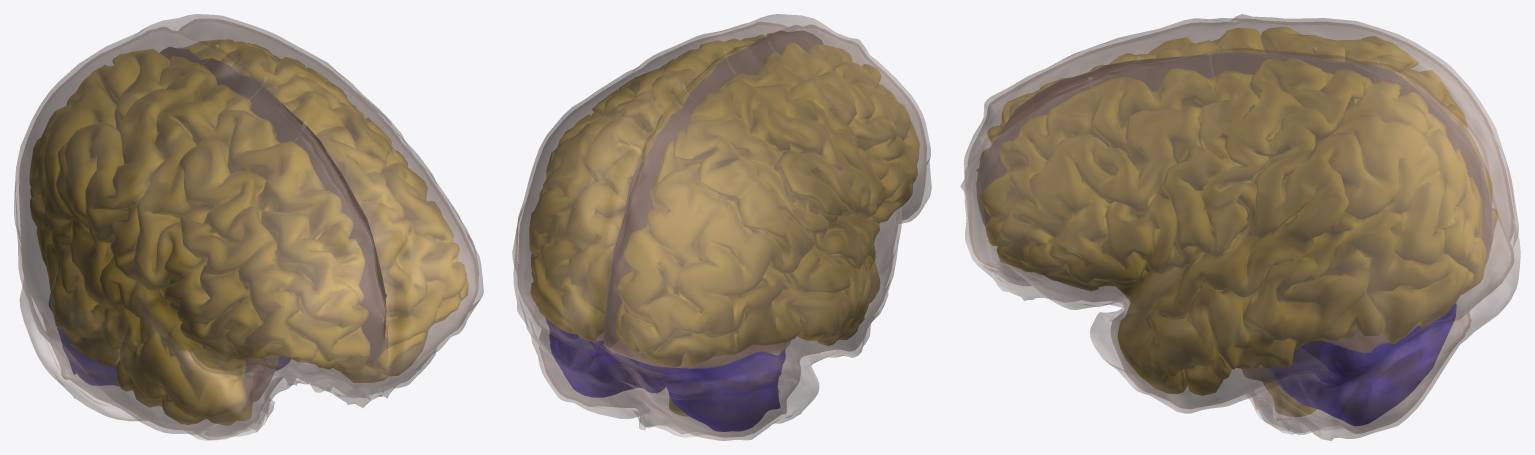
Rendered from meninges.glb.
3 views of the same model, side by side, from view 1: azimuth 30°, elevation 25°; view 2: azimuth 150°, elevation 25°; view 3: azimuth 270°, elevation 25° (orthographic). The views are drawn at different scales.
Parts seen in each view (by area): view 1: Periosteal_layer_of_dura_mater, Meningeal_layer_of_dura_mater, Right_cerebral_cortex_and_pia_mater, Left_cerebral_cortex_and_pia_mater, Arachnoid_mater, Falx_cerebri_and_tentorium_cerebelli, Right_cerebellum_and_pia_mater, Medulla; view 2: Periosteal_layer_of_dura_mater, Meningeal_layer_of_dura_mater, Right_cerebral_cortex_and_pia_mater, Left_cerebral_cortex_and_pia_mater, Arachnoid_mater, Falx_cerebri_and_tentorium_cerebelli, Right_cerebellum_and_pia_mater, Left_cerebellum_and_pia_mater; view 3: Periosteal_layer_of_dura_mater, Meningeal_layer_of_dura_mater, Left_cerebral_cortex_and_pia_mater, Arachnoid_mater, Falx_cerebri_and_tentorium_cerebelli, Left_cerebellum_and_pia_mater, Right_cerebral_cortex_and_pia_mater, Medulla.
Boxes of the visible parts, x1,y1,x2,y2 form: Periosteal_layer_of_dura_mater: (14, 14, 483, 440); Meningeal_layer_of_dura_mater: (19, 18, 478, 439); Right_cerebral_cortex_and_pia_mater: (29, 49, 369, 424); Left_cerebral_cortex_and_pia_mater: (178, 39, 468, 382); Arachnoid_mater: (22, 22, 475, 436); Falx_cerebri_and_tentorium_cerebelli: (160, 47, 386, 403); Right_cerebellum_and_pia_mater: (49, 295, 118, 385); Medulla: (208, 403, 252, 425); Periosteal_layer_of_dura_mater: (512, 14, 931, 440); Meningeal_layer_of_dura_mater: (518, 22, 926, 437); Right_cerebral_cortex_and_pia_mater: (616, 43, 919, 366); Left_cerebral_cortex_and_pia_mater: (529, 33, 771, 342); Arachnoid_mater: (520, 25, 923, 434); Falx_cerebri_and_tentorium_cerebelli: (596, 31, 823, 368); Right_cerebellum_and_pia_mater: (655, 350, 785, 431); Left_cerebellum_and_pia_mater: (546, 319, 665, 397); Periosteal_layer_of_dura_mater: (960, 14, 1520, 440); Meningeal_layer_of_dura_mater: (968, 19, 1513, 434); Left_cerebral_cortex_and_pia_mater: (979, 57, 1485, 395); Arachnoid_mater: (971, 22, 1510, 432); Falx_cerebri_and_tentorium_cerebelli: (976, 52, 1493, 384); Left_cerebellum_and_pia_mater: (1269, 303, 1456, 425); Right_cerebral_cortex_and_pia_mater: (979, 27, 1497, 229); Medulla: (1263, 382, 1316, 416).
Size of the model in its own units: 0.1322 by 0.1405 by 0.1838.
Materials: 12 (12 with a texture image).
